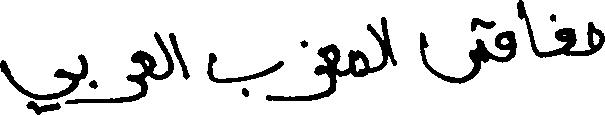X: (420, 13, 488, 88), (0, 50, 79, 114), (208, 48, 283, 105), (303, 35, 337, 105), (519, 0, 537, 60), (140, 29, 154, 102), (555, 10, 574, 60), (371, 12, 384, 77), (157, 28, 172, 84), (174, 30, 187, 84), (497, 26, 513, 67), (589, 17, 604, 59), (349, 45, 366, 81), (128, 46, 138, 106), (386, 15, 395, 70), (81, 49, 86, 107)
